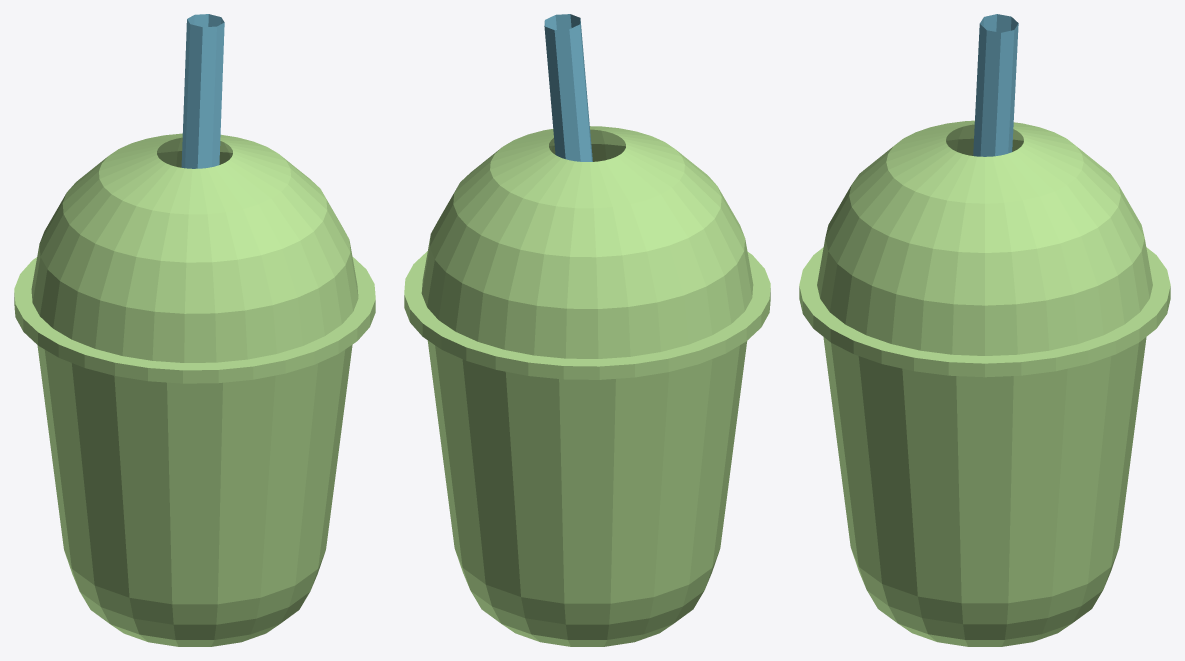
The model's file is boba.glb.
3 views of the same model, side by side, from view 1: azimuth 30°, elevation 25°; view 2: azimuth 150°, elevation 25°; view 3: azimuth 270°, elevation 25° (orthographic). The views are drawn at different scales.
Parts seen in each view (by area): view 1: Cylinder, Sphere.001, Cylinder.001; view 2: Cylinder, Sphere.001, Cylinder.001; view 3: Cylinder, Sphere.001, Cylinder.001.
Boxes of the visible parts, x1=… form: Cylinder: x1=37, y1=344, x2=352, y2=646; Sphere.001: x1=14, y1=133, x2=375, y2=383; Cylinder.001: x1=181, y1=14, x2=224, y2=168; Cylinder: x1=427, y1=340, x2=747, y2=646; Sphere.001: x1=404, y1=126, x2=770, y2=379; Cylinder.001: x1=544, y1=14, x2=592, y2=161; Cylinder: x1=823, y1=337, x2=1146, y2=646; Sphere.001: x1=799, y1=120, x2=1170, y2=377; Cylinder.001: x1=973, y1=14, x2=1018, y2=156.
Bounding box in the file's own units: 2.94 × 5.18 × 2.94.
